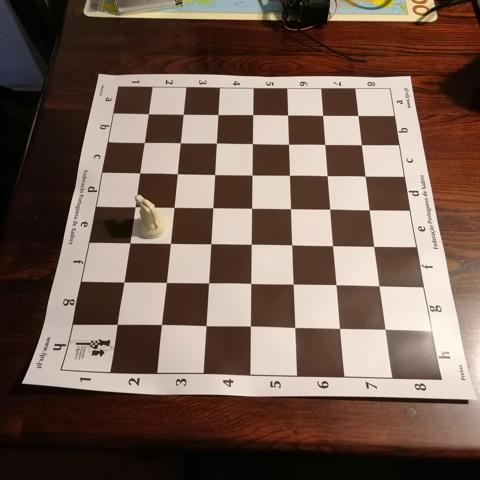xcorner: (351, 108, 367, 124), (315, 108, 331, 124), (244, 107, 260, 123), (209, 107, 225, 123), (174, 107, 190, 123), (140, 106, 156, 122), (354, 137, 370, 153), (280, 136, 296, 152), (244, 136, 260, 152), (207, 135, 223, 151), (171, 135, 187, 151), (358, 168, 374, 184), (281, 167, 297, 183), (243, 166, 259, 182), (205, 166, 221, 182), (130, 165, 146, 181), (322, 201, 338, 217), (282, 200, 298, 216), (203, 199, 219, 215), (164, 198, 180, 214), (367, 238, 383, 254), (325, 237, 341, 253), (283, 236, 299, 252), (200, 235, 216, 251), (119, 233, 135, 249), (328, 277, 344, 293), (284, 276, 300, 292), (241, 275, 257, 291), (198, 274, 214, 290), (155, 273, 171, 289), (112, 272, 128, 288), (377, 322, 393, 338), (285, 319, 301, 335), (240, 318, 256, 334), (195, 317, 211, 333), (150, 316, 166, 332), (280, 108, 295, 124), (317, 137, 333, 152), (135, 135, 151, 150), (320, 167, 335, 183), (168, 165, 183, 181), (362, 202, 378, 217), (242, 200, 258, 215), (125, 198, 141, 213), (160, 234, 175, 250), (372, 278, 387, 294), (331, 321, 347, 336), (105, 315, 121, 330), (242, 236, 257, 251)
